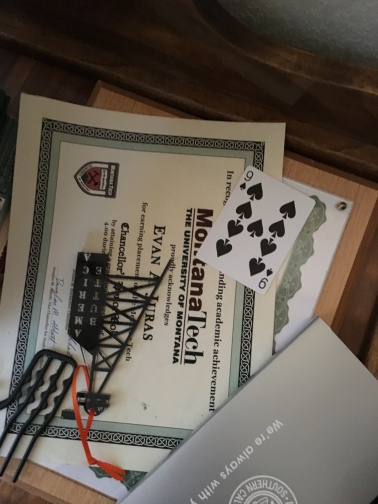nine: (196, 164, 314, 294)
